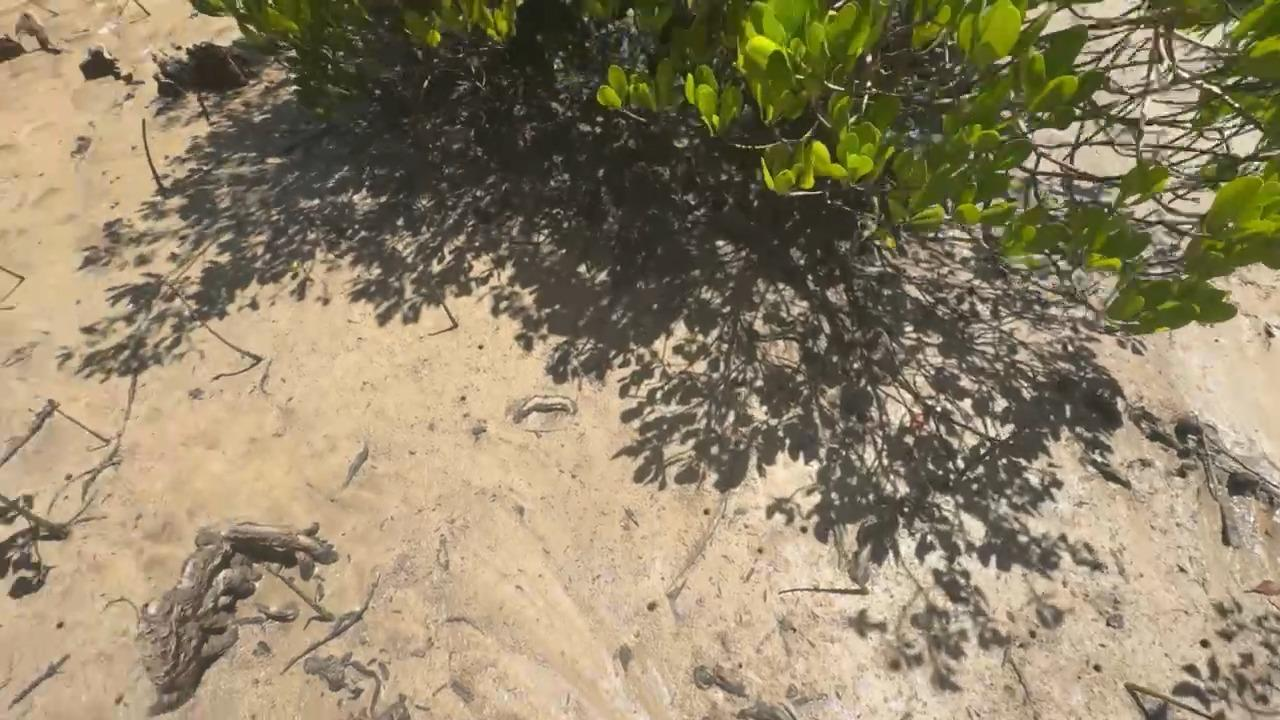Tree: (167, 282, 264, 362), (1124, 681, 1213, 720), (0, 493, 69, 540), (279, 576, 335, 621), (54, 407, 110, 443), (142, 118, 163, 190), (434, 288, 459, 328), (777, 588, 870, 595), (0, 264, 24, 280), (134, 0, 151, 16), (42, 6, 58, 15)
